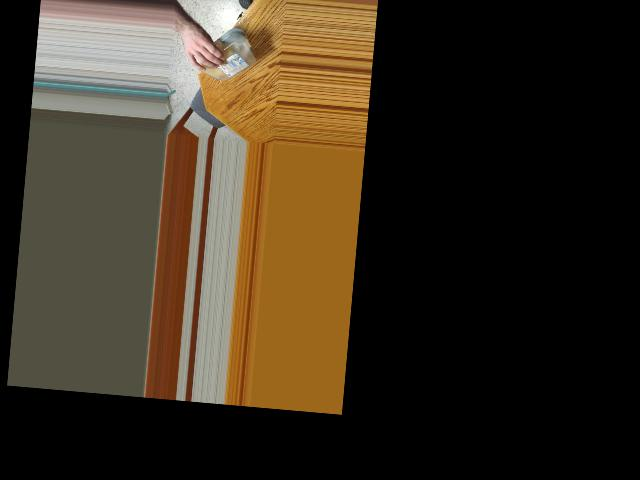cheese: (189, 26, 258, 83)
